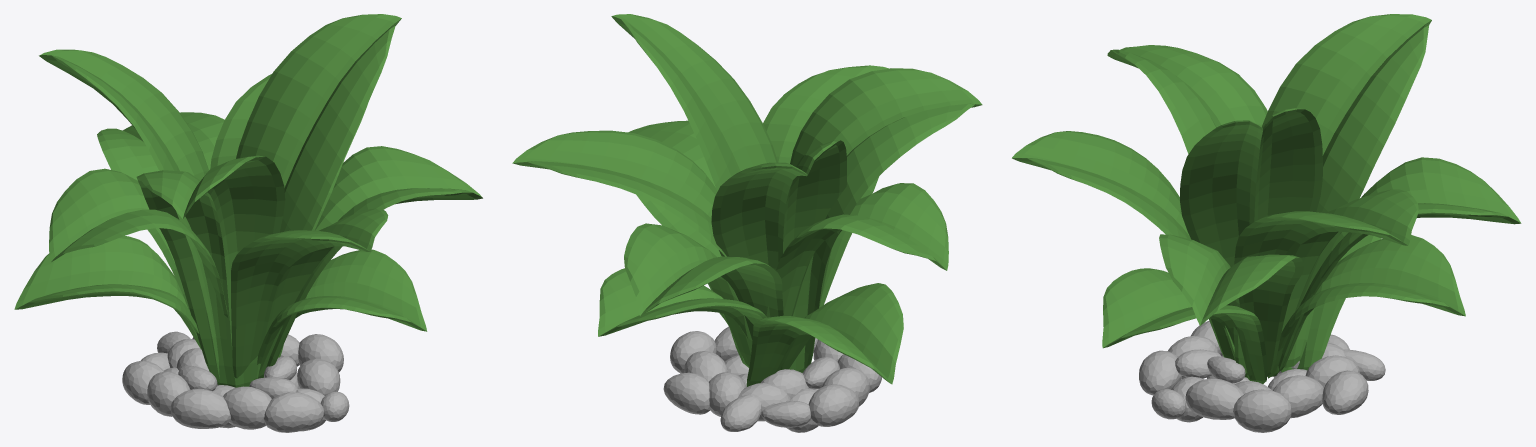
The model's file is Jade_L.fbx.
The picture shows the model from 3 angles, left to right: view 1: azimuth 30°, elevation 25°; view 2: azimuth 150°, elevation 25°; view 3: azimuth 270°, elevation 25°; orthographic projection.
Visible parts, largest first — view 1: Plane.014; view 2: Plane.014; view 3: Plane.014.
Boxes of the visible parts, x1=… form: Plane.014: x1=14, y1=14, x2=482, y2=432; Plane.014: x1=512, y1=14, x2=982, y2=432; Plane.014: x1=1012, y1=14, x2=1521, y2=432.
Bounding box in the file's own units: 287 × 248 × 316.
